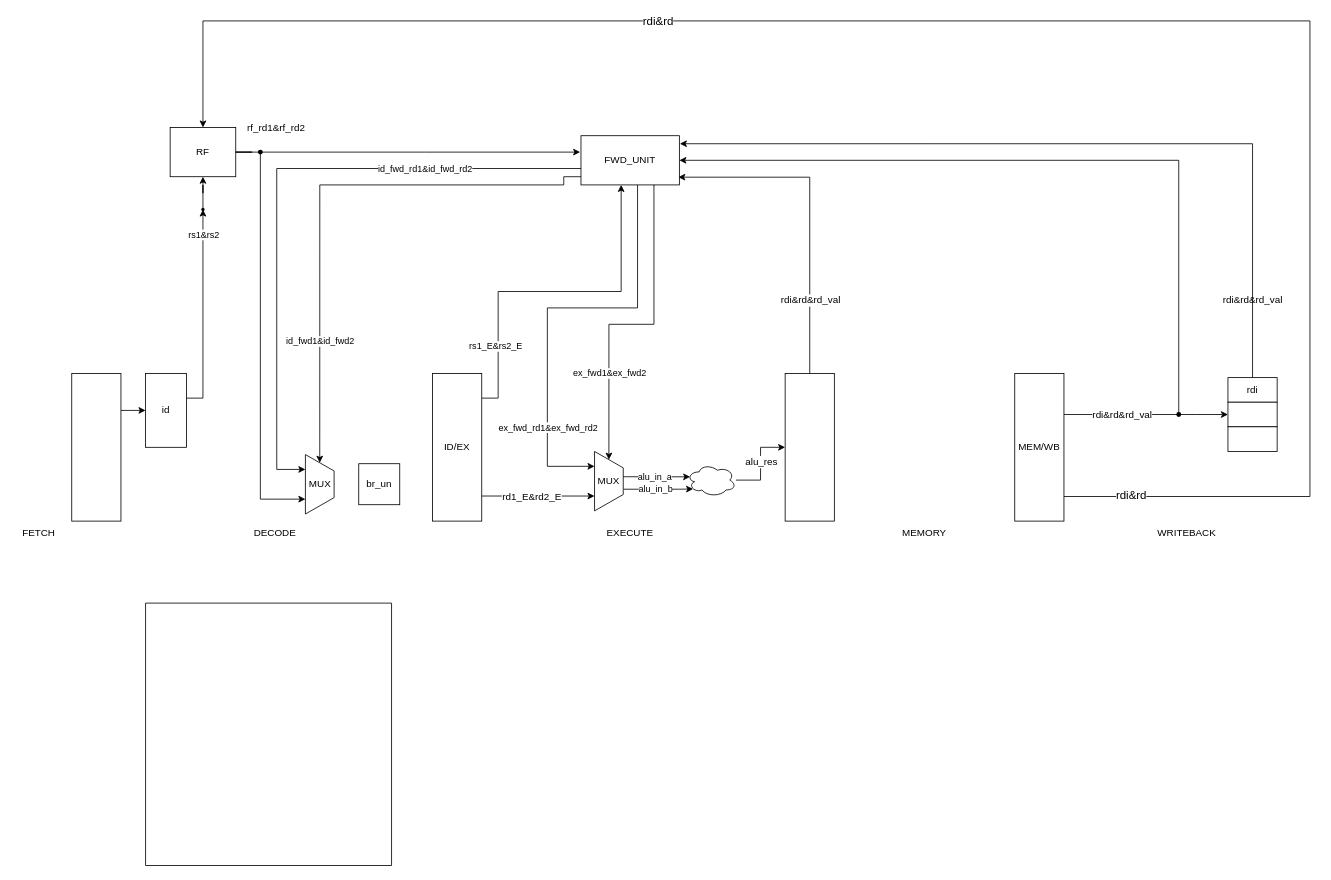
Some shapes in this 1331 by 880 pixel diagram are drawn without their labels. The centre of each missing label's shape, as x and y in pixels:
ALU: the point at 711,480
ID/MEM: the point at 809,447
IF/ID: the point at 96,447
rd: the point at 1252,414
rd_val: the point at 1252,438
